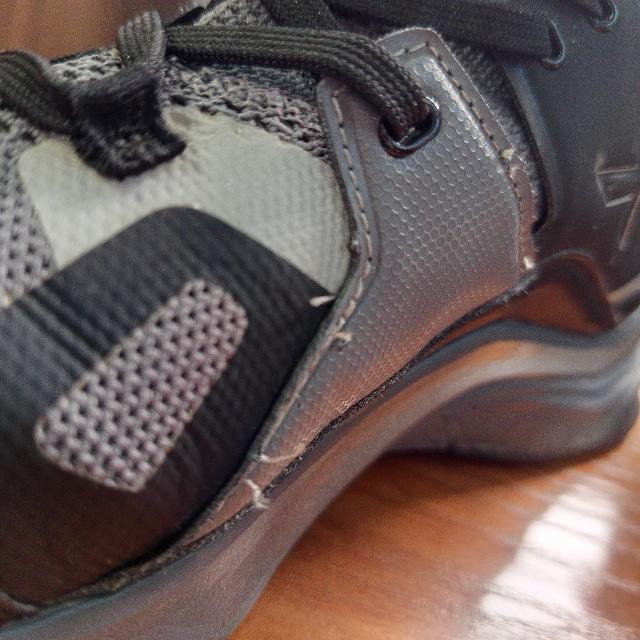broken: (235, 441, 295, 515), (494, 142, 526, 183)
